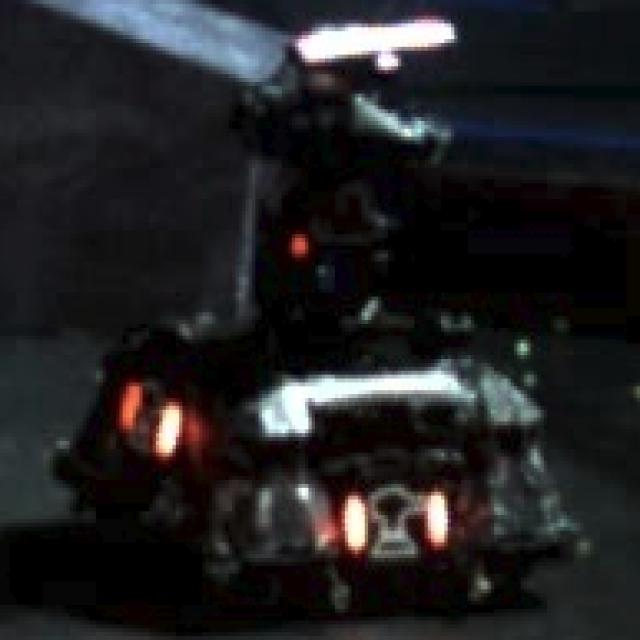Rs: (342, 484, 444, 550), (120, 382, 182, 457)
